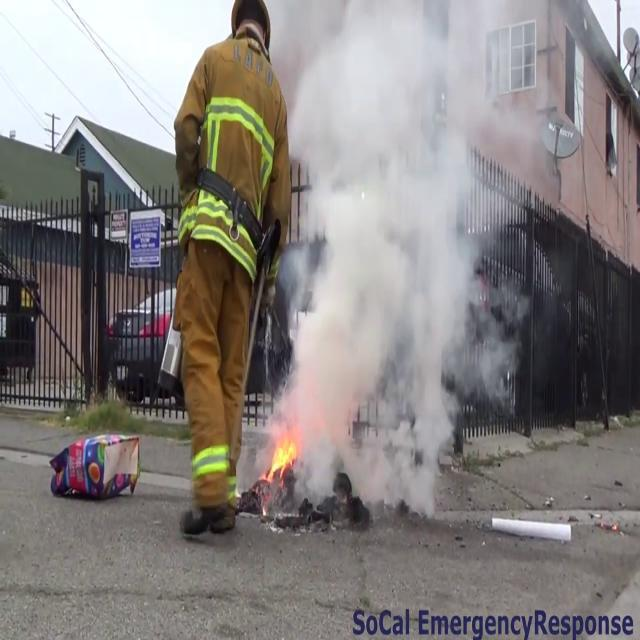Fire: (263, 422, 301, 486)
Smoke: (267, 0, 500, 517)
